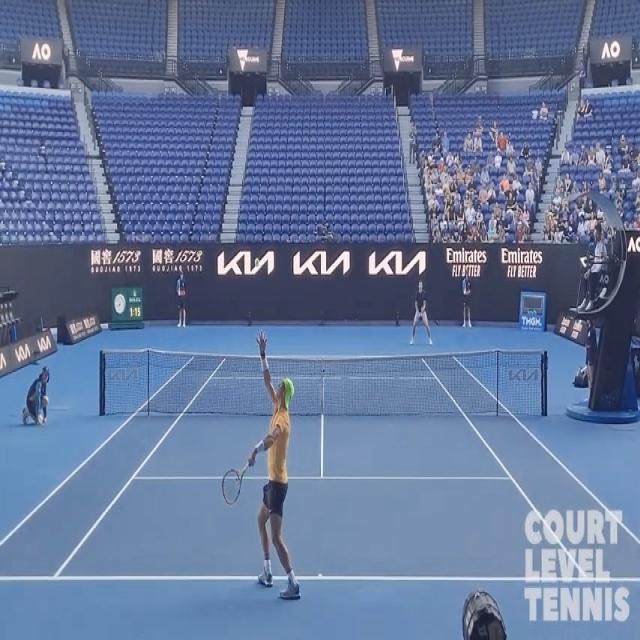serve_toss: (220, 333, 302, 605)
